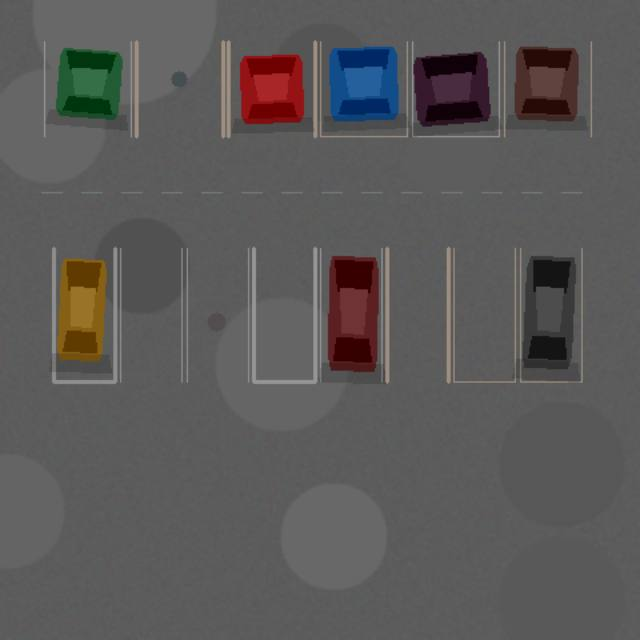space-empty: (136, 41, 223, 136), (253, 248, 315, 381), (453, 248, 515, 381), (120, 248, 181, 381), (187, 248, 248, 381), (387, 248, 448, 381)
space-occupied: (44, 41, 131, 136), (228, 41, 315, 136), (320, 41, 407, 136), (412, 41, 499, 136), (504, 41, 591, 136), (53, 248, 115, 381), (320, 248, 381, 381), (520, 248, 581, 381)
